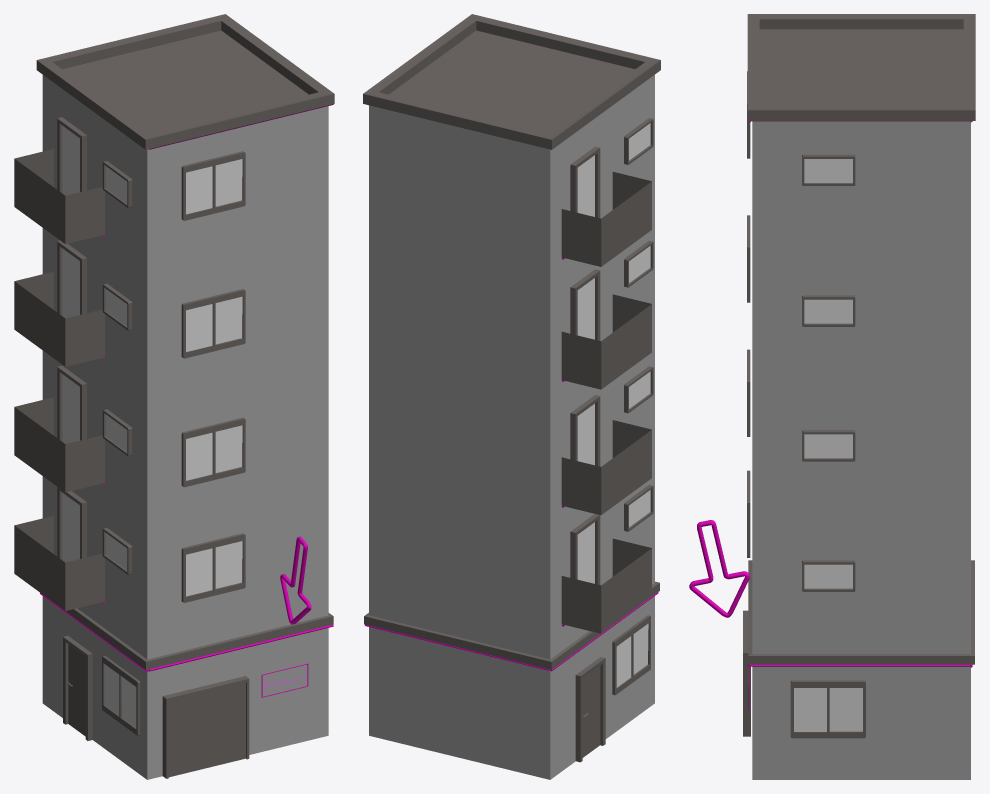
The model's file is SM_TallBuildings_02a.fbx.
The picture shows the model from 3 angles, left to right: view 1: azimuth 30°, elevation 25°; view 2: azimuth 150°, elevation 25°; view 3: azimuth 270°, elevation 25°; orthographic projection. The views are drawn at different scales.
Visible parts, largest first — view 1: LargeBuilding; view 2: LargeBuilding; view 3: LargeBuilding.
Part boxes in pixels (bbox=[...]): LargeBuilding: bbox=[14, 14, 334, 779]; LargeBuilding: bbox=[363, 14, 660, 779]; LargeBuilding: bbox=[689, 14, 975, 779].
Bounding box in the file's own units: 489 × 1326 × 512.
